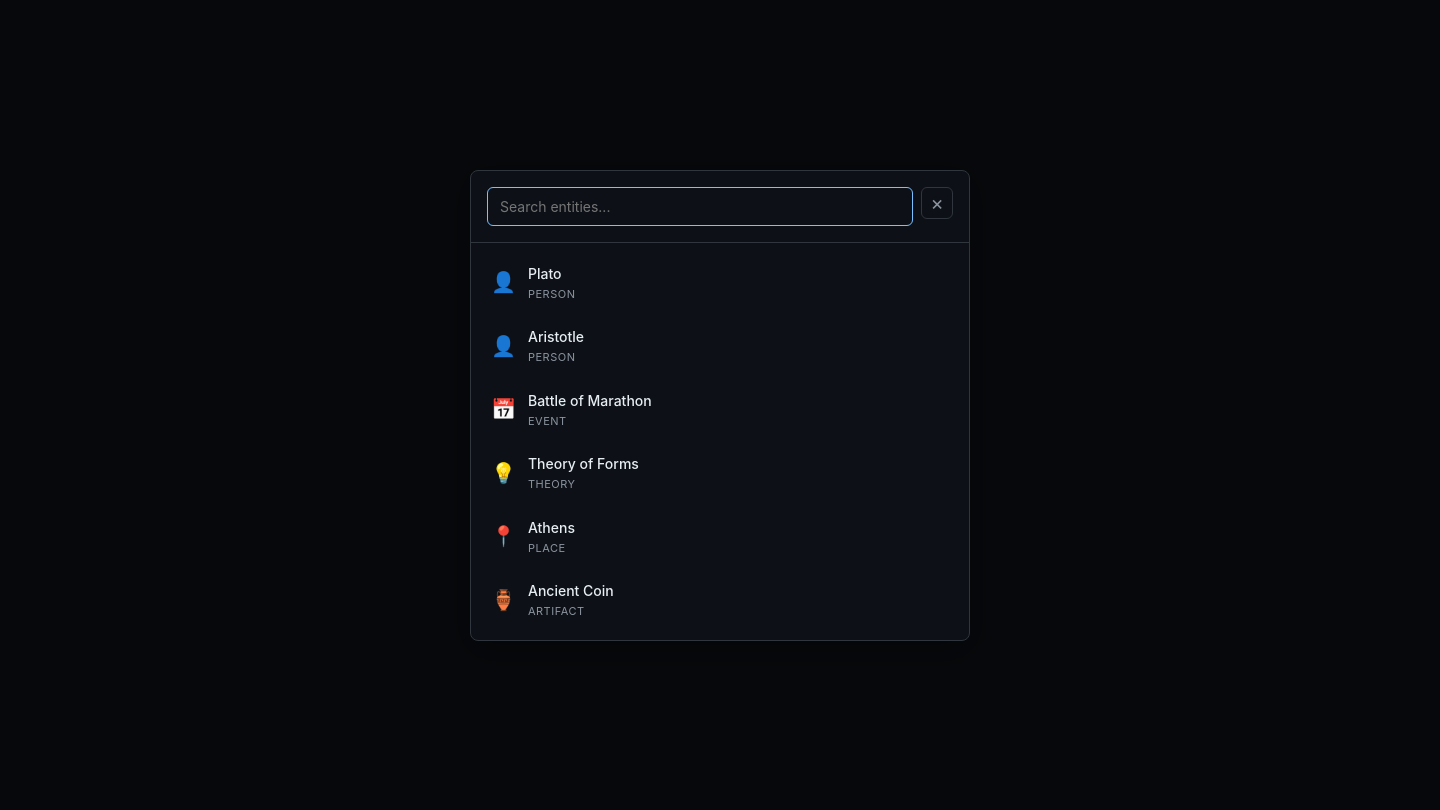
Test: EntityPicker › filters entities based on search query
Type "plato" into the field with placeholder "Search entities..." at (700, 206), box [487,186,913,226]
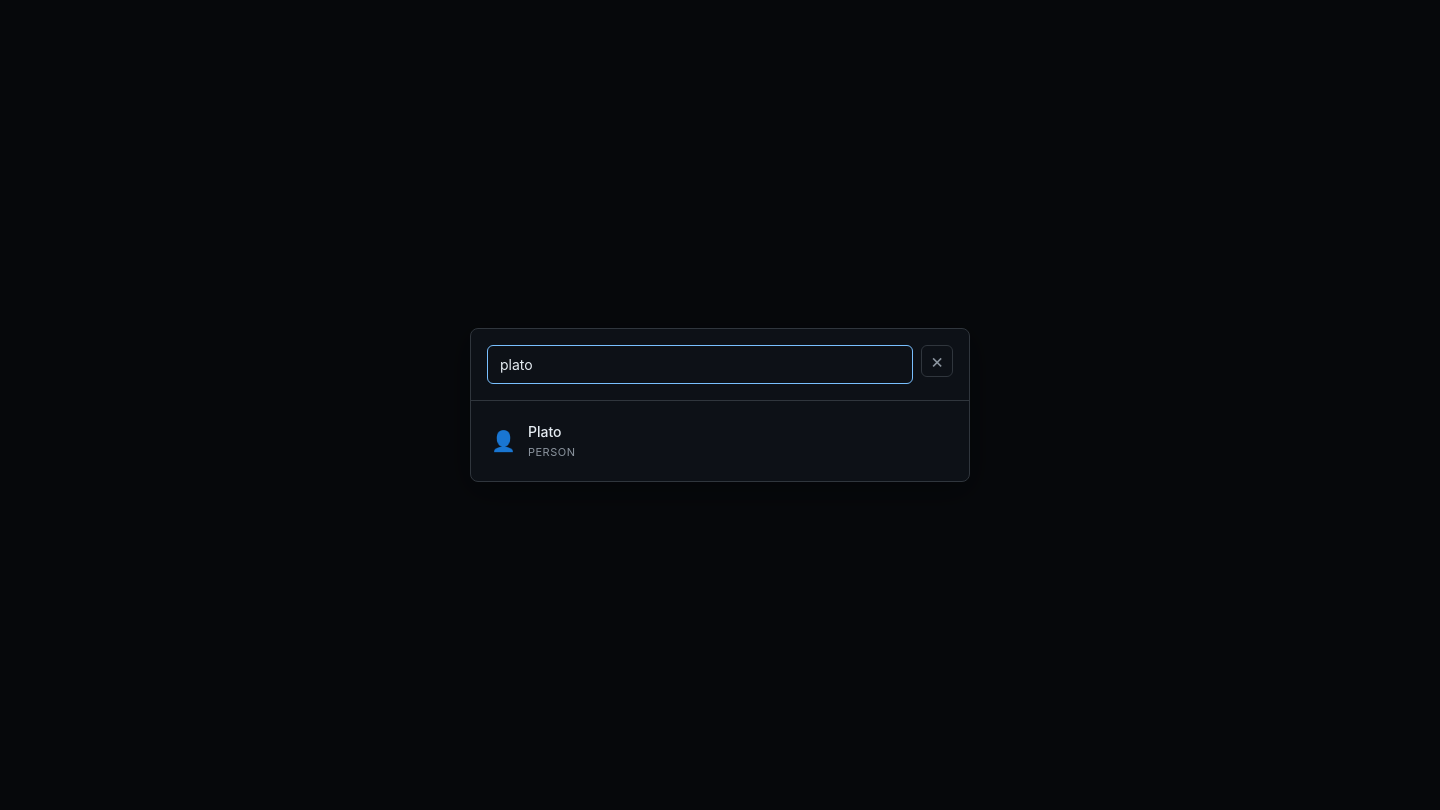
Expected: the text "Plato" is shown, [528,423,562,440]
Expected: the text "Aristotle" is gone
Expected: the text "Battle of Marathon" is gone
